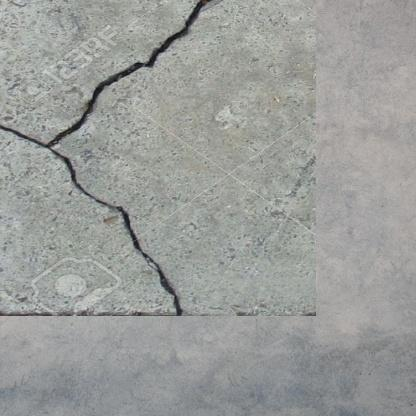Cracks: (0, 0, 228, 292)
